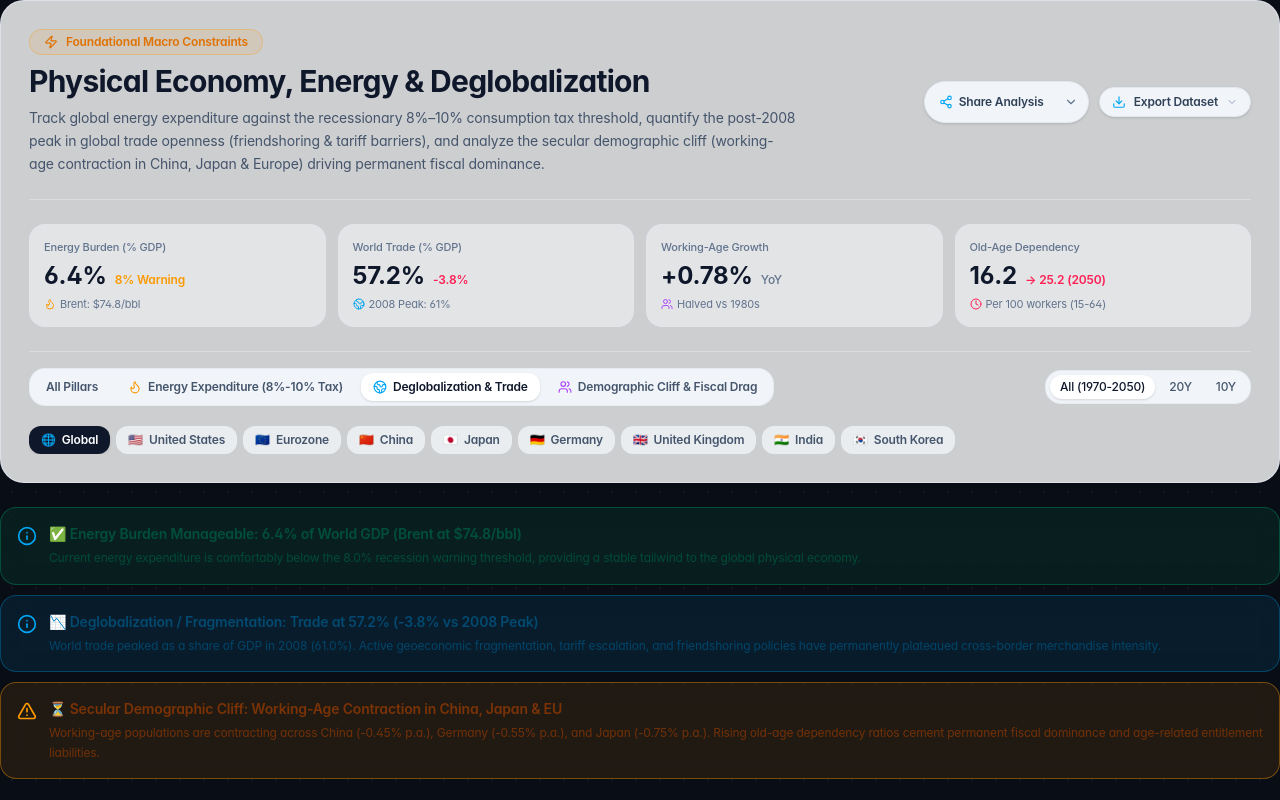
Scenario: PhysicalEconomyRadar Component › switches views to Demographic Cliff & Fiscal Drag
Click the button "Demographic Cliff & Fiscal Drag" at (658, 387), box [546,373,769,401]
(page scrolled)
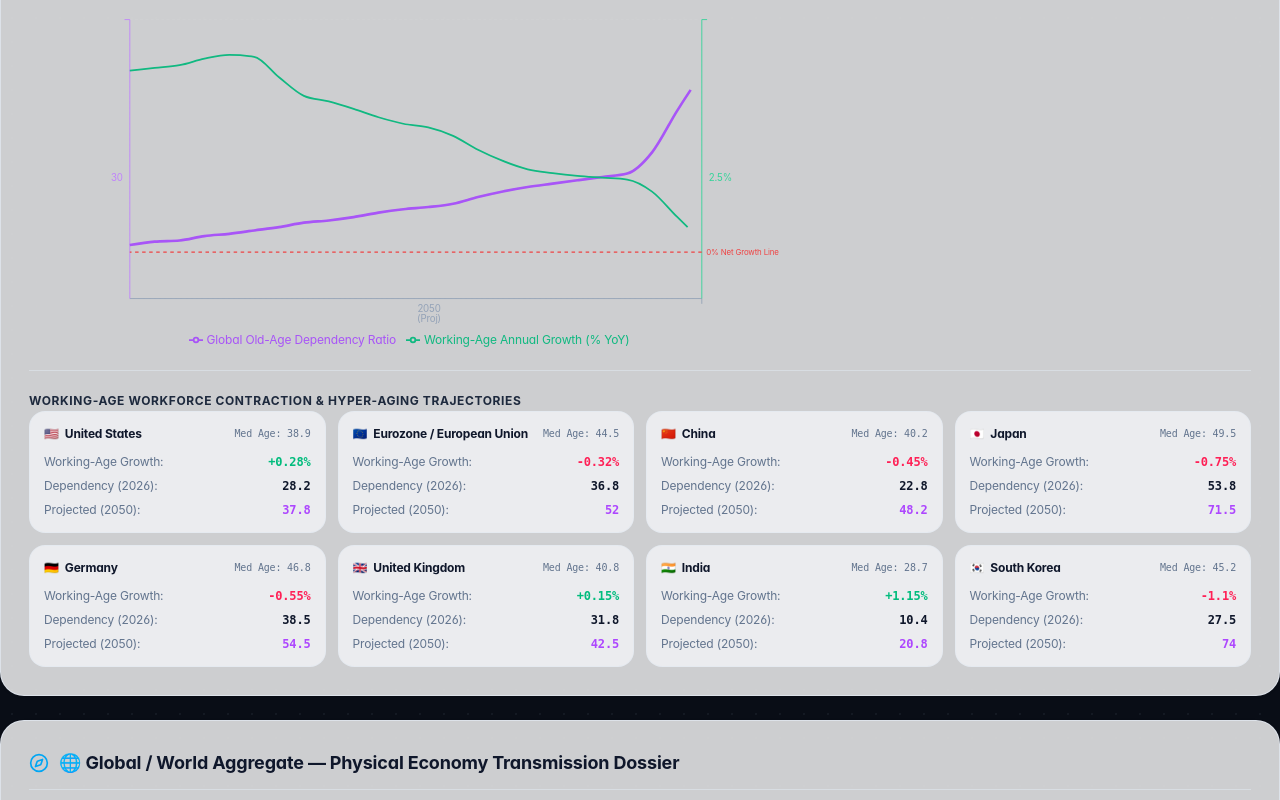
Check: the text "Working-Age Workforce Contraction & Hyper-Aging Trajectories" is shown, box [29,393,521,408]
